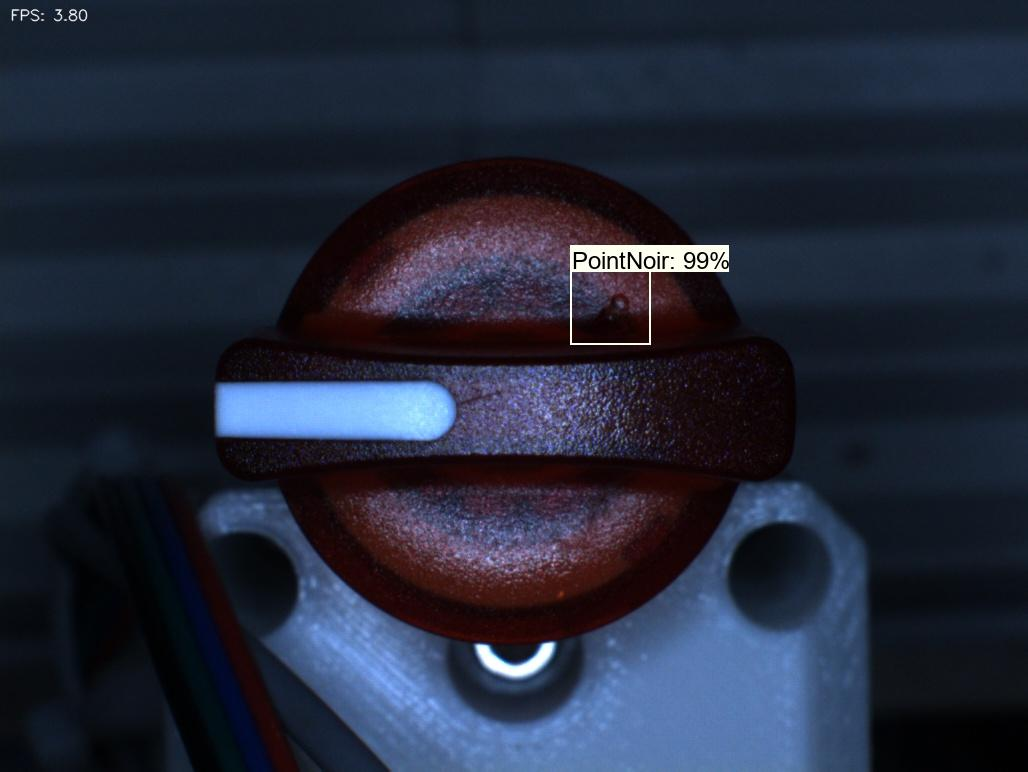Choc: (578, 277, 650, 345)
